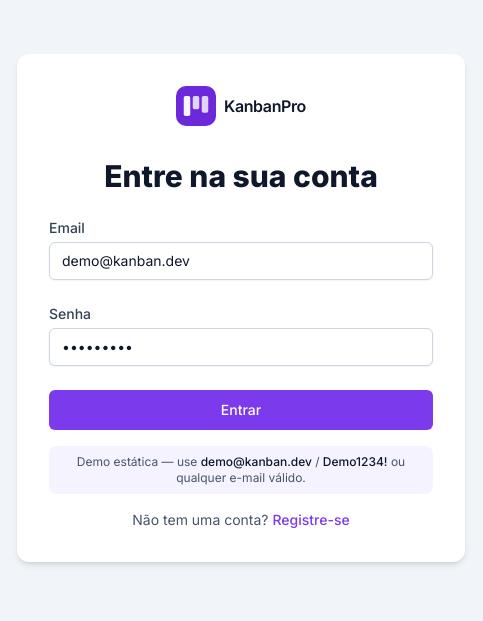
Test: Authentication Flow › navigates to registration page and shows form
The image size is (483, 621).
Click the link "Registre-se": x=312, y=520 x1=273 y1=511 x2=350 y2=528
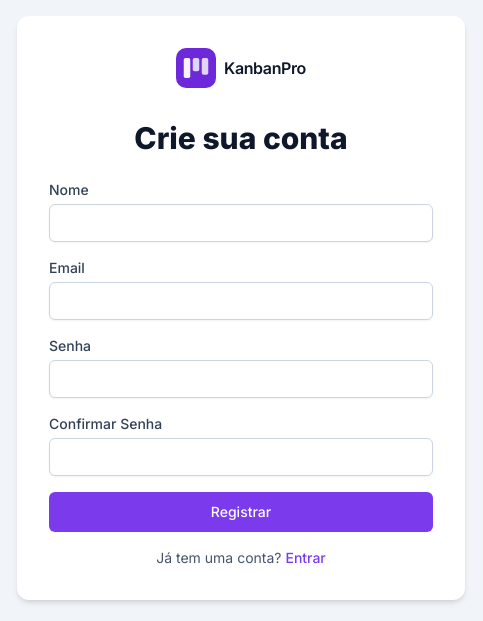
Expected: the field named "email" below "Email" is shown, x1=49 y1=282 x2=433 y2=320
Now the field named "name" below "Nome" is shown, box x1=49 y1=204 x2=433 y2=242
Now the password field named "confirmPassword" below "Confirmar Senha" is shown, box x1=49 y1=438 x2=433 y2=476
